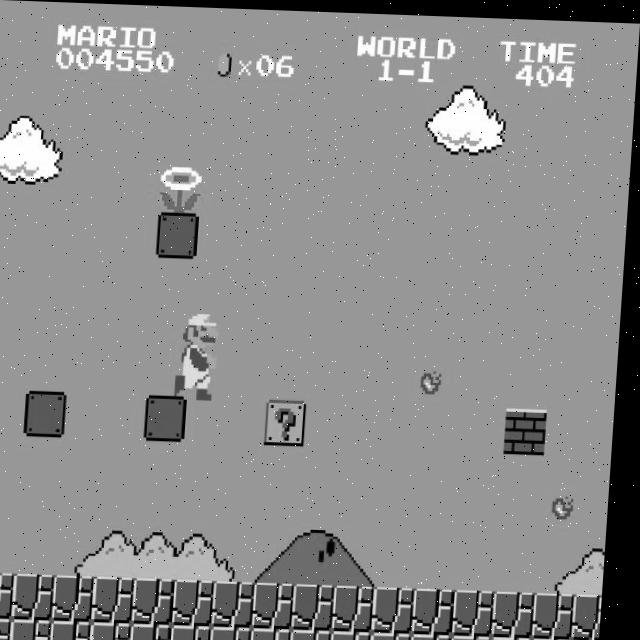1- brick_block: (509, 404, 553, 451)
13- mystery_block: (269, 397, 313, 444)
17- undestructible_block: (100, 575, 143, 623), (340, 582, 383, 630), (380, 583, 423, 631), (20, 573, 63, 620), (60, 574, 103, 621), (140, 577, 183, 624), (180, 578, 223, 625), (220, 579, 263, 626), (260, 580, 303, 627), (300, 581, 343, 628), (420, 585, 463, 632), (460, 586, 503, 633), (500, 587, 543, 634), (540, 588, 583, 635), (580, 589, 610, 636), (0, 572, 23, 619), (18, 619, 61, 640), (58, 620, 101, 640), (98, 621, 141, 640), (138, 622, 181, 640), (178, 623, 221, 640), (218, 624, 261, 640), (258, 625, 301, 640), (298, 627, 341, 640), (338, 628, 381, 640), (0, 617, 21, 640), (378, 629, 421, 640), (418, 630, 461, 640), (458, 631, 501, 640), (498, 632, 541, 640), (538, 634, 581, 640), (578, 635, 608, 640)
3- empty_block: (29, 390, 73, 437), (149, 394, 193, 441), (159, 211, 202, 257)
4- fire_mario: (176, 303, 224, 398)
5- fireball: (425, 364, 447, 391), (559, 489, 580, 515)
6- flower: (159, 162, 205, 212)
